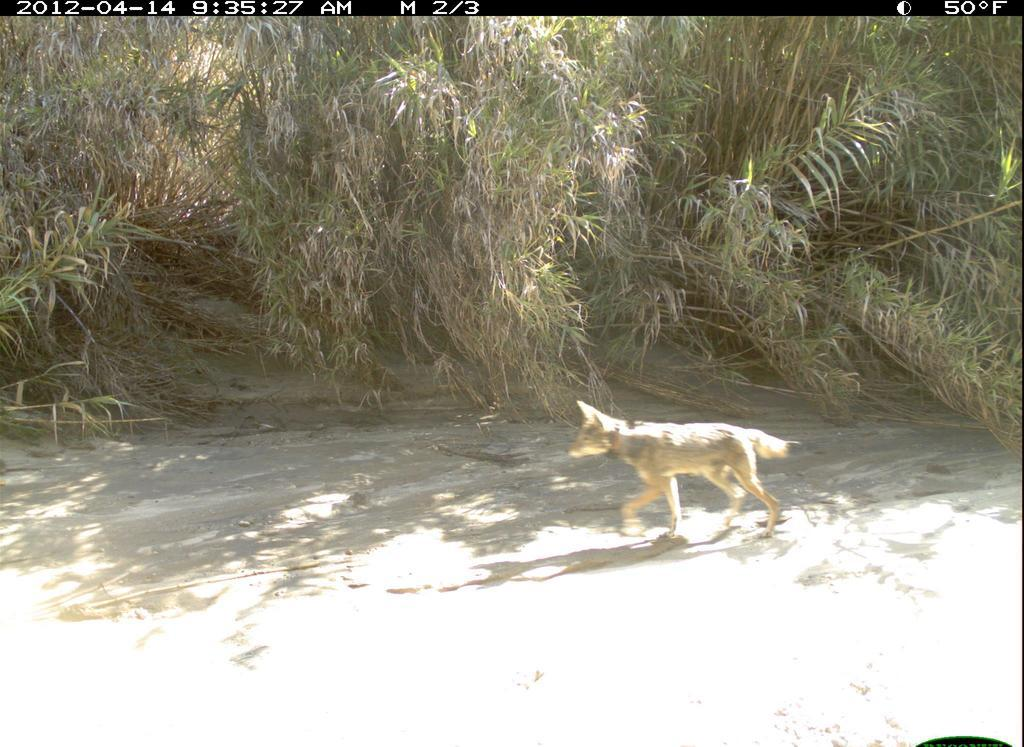coyote: (562, 393, 801, 552)
